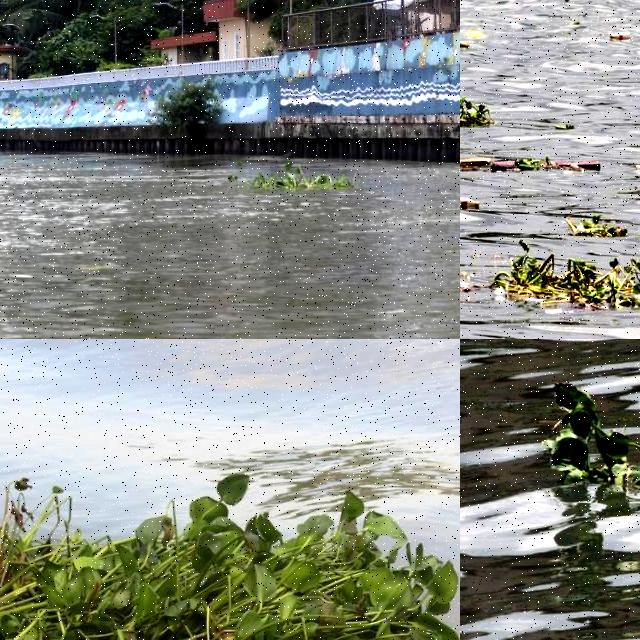water-hyacinth: (1, 458, 461, 640), (547, 382, 640, 496), (494, 252, 640, 310), (239, 163, 353, 195), (565, 214, 630, 240), (461, 91, 494, 130)
